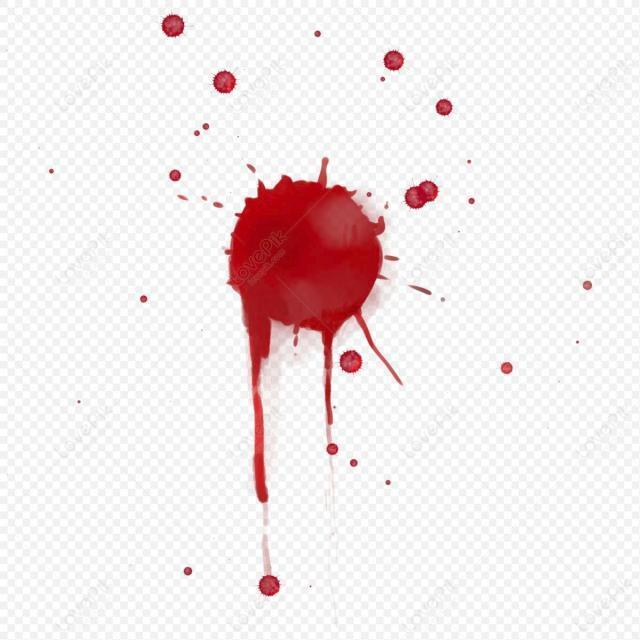Bloodstain-Detection: (236, 195, 370, 347)
